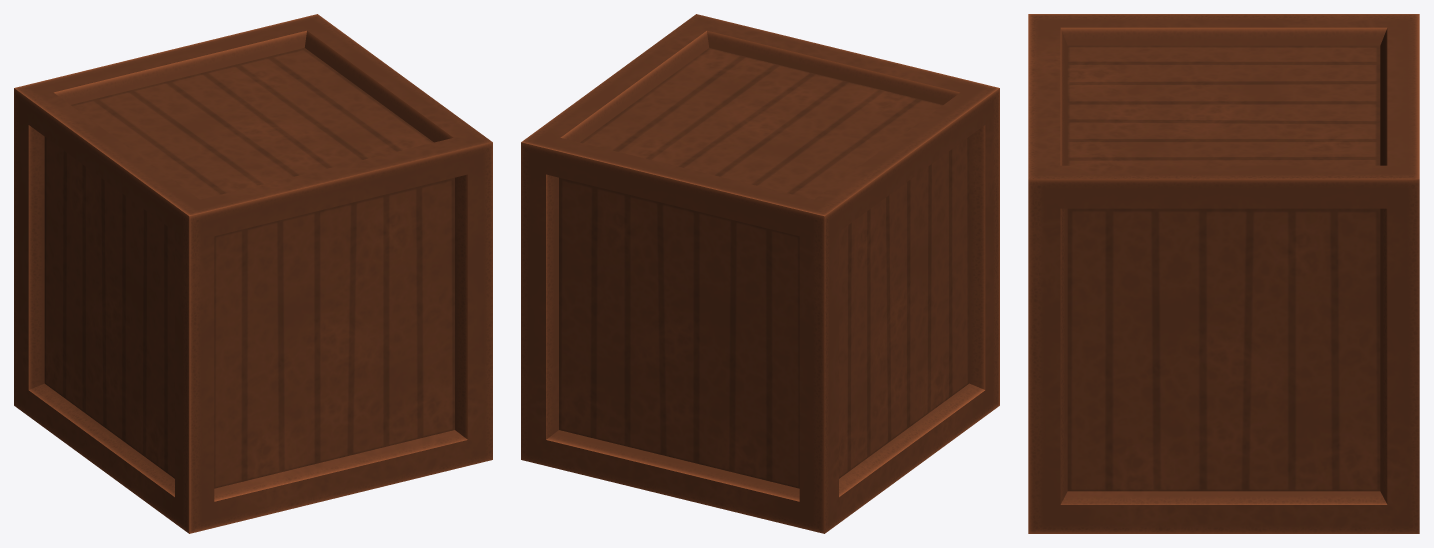
File: cargo_gauge_body.gltf
The picture shows the model from 3 angles, left to right: view 1: azimuth 30°, elevation 25°; view 2: azimuth 150°, elevation 25°; view 3: azimuth 270°, elevation 25°; orthographic projection. The views are drawn at different scales.
Visible parts, largest first — view 1: Cube; view 2: Cube; view 3: Cube.
Part boxes in pixels (x1,y1,x2,y2): Cube: (14,14,492,533); Cube: (521,14,999,533); Cube: (1028,14,1419,533).
Size of the model in its own units: 2 by 2 by 2.
Materials: 1 (1 with a texture image).
